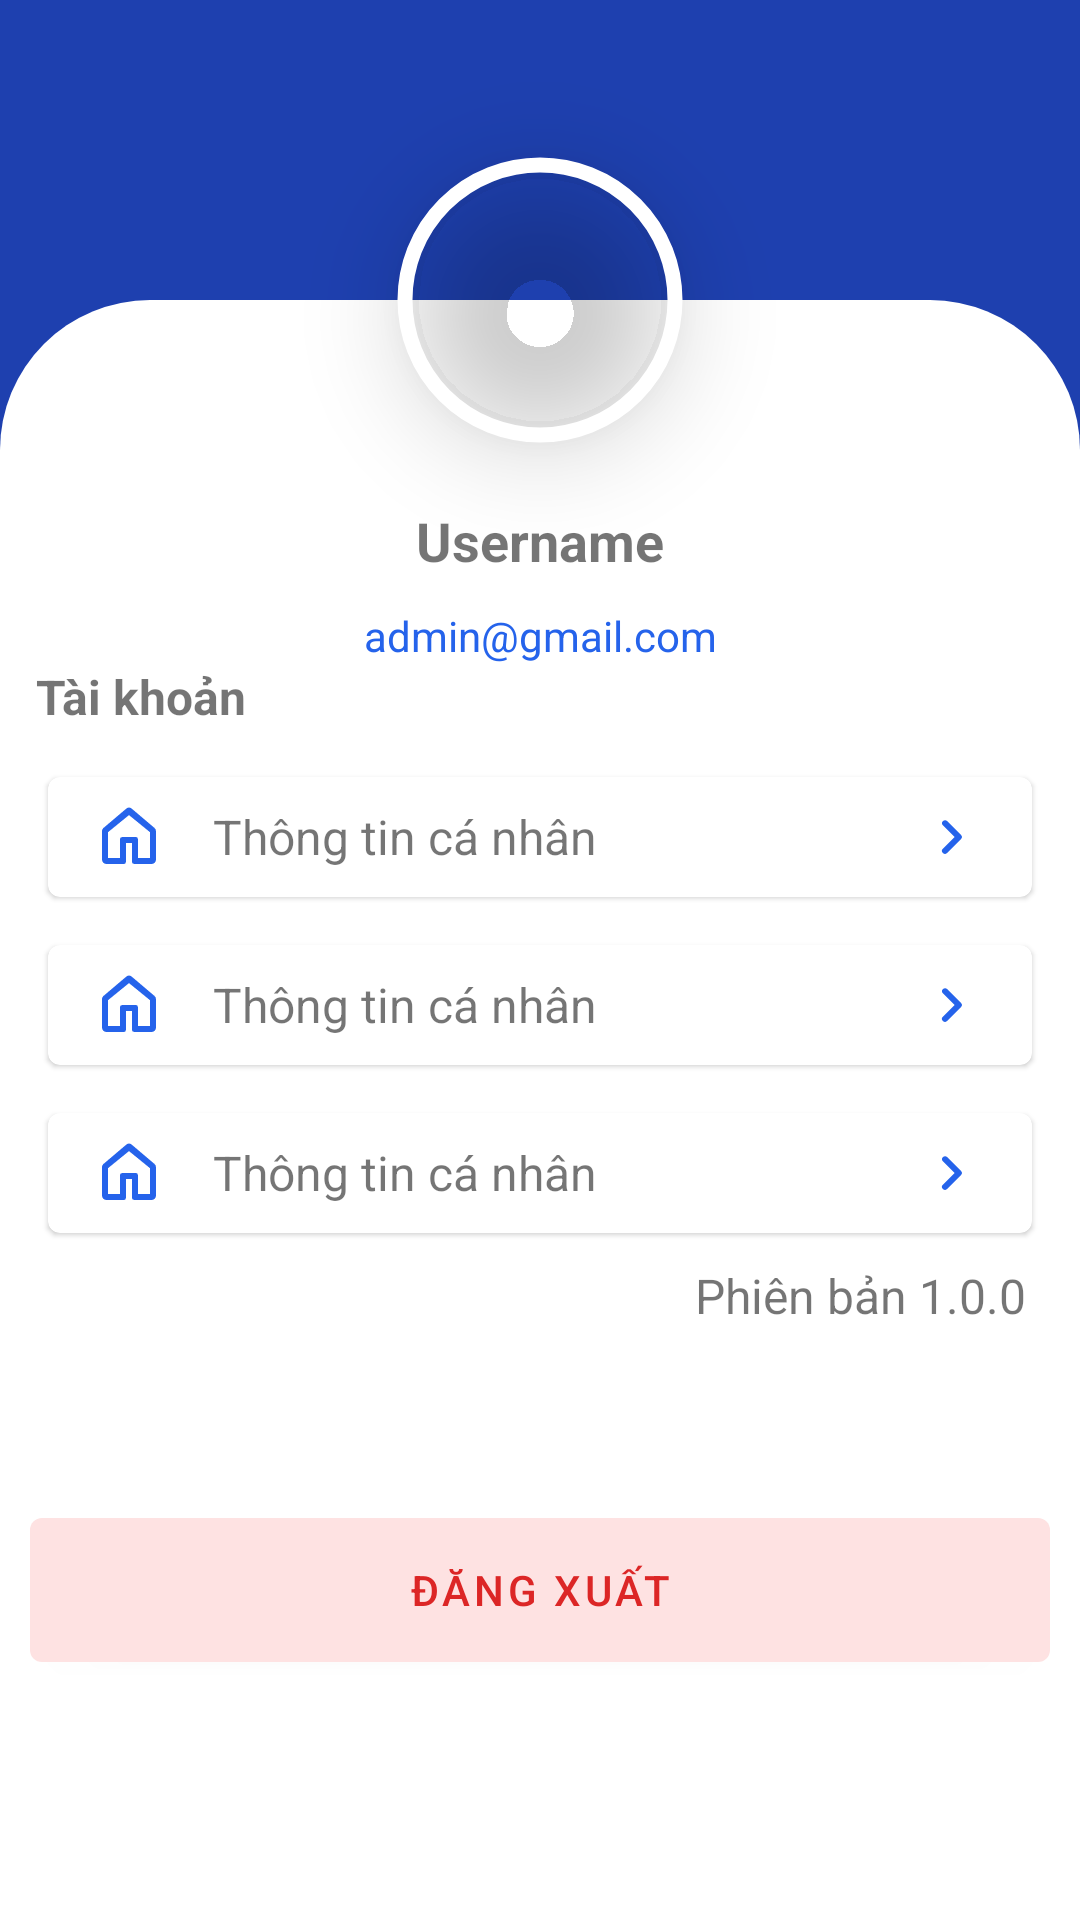

Named icons in this screenshot (1080*1920) and their centers, (x,y):
home: (129,835), (129,1003), (129,1171)
next: (951,837), (951,1005), (951,1173)
